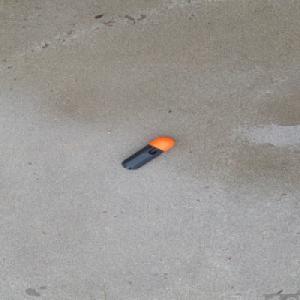PlasticPart: (120, 136, 175, 170)
